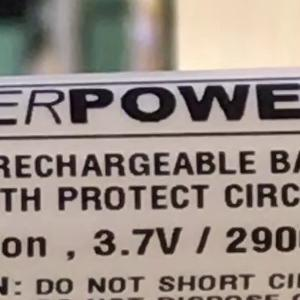keyword: (83, 217, 189, 266)
